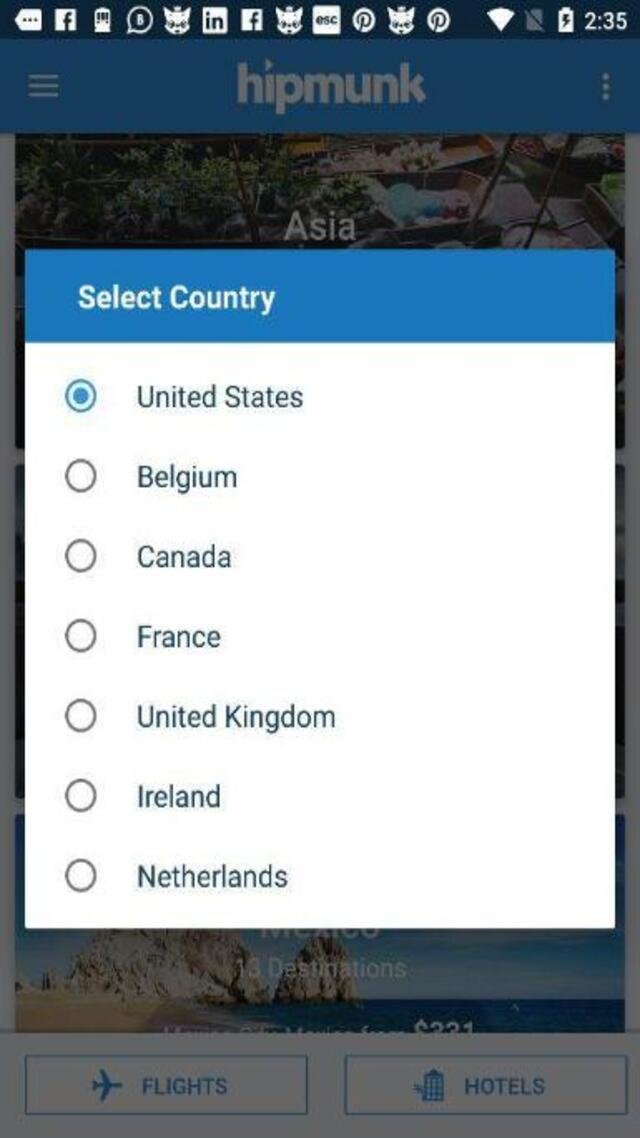CheckedTextView: (64, 697, 335, 733), (64, 380, 302, 414), (65, 858, 288, 892), (64, 460, 235, 494), (65, 538, 231, 572), (65, 618, 221, 652), (65, 778, 221, 812)
Icon: (82, 1062, 123, 1108), (409, 1063, 449, 1107), (27, 74, 59, 100), (602, 74, 608, 100)
Text: (238, 59, 428, 116), (77, 282, 275, 315), (137, 702, 335, 732), (137, 384, 302, 409), (136, 862, 286, 887), (137, 464, 235, 494), (136, 1072, 232, 1102), (460, 1072, 550, 1100), (138, 544, 231, 569), (139, 783, 220, 808), (139, 624, 220, 646)
TextButton: (24, 1054, 308, 1114), (344, 1054, 627, 1114)
